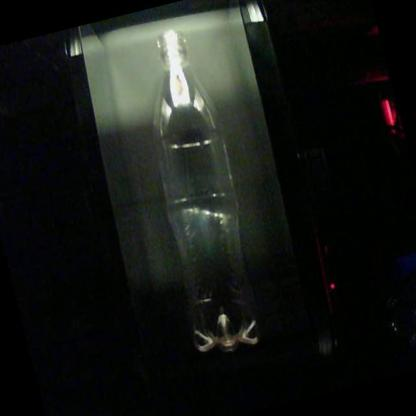Plastic Bottle: (158, 29, 260, 352)
